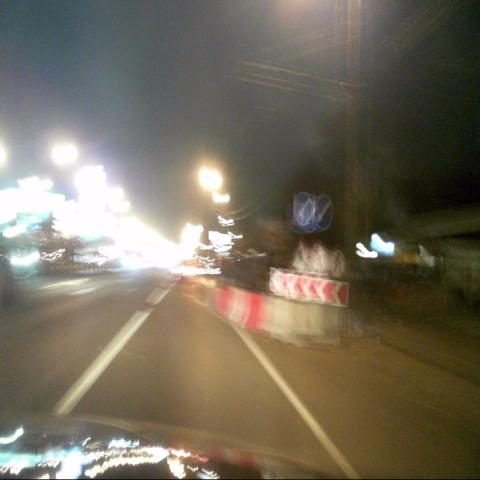3_10: (329, 250, 345, 278)
